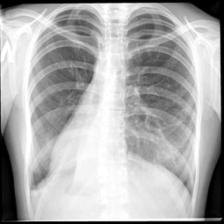tuberculosis: (16, 4, 204, 218)
